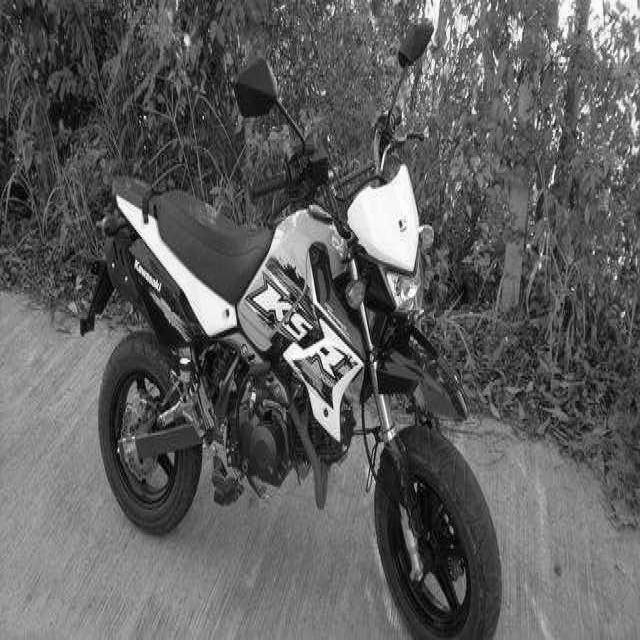Motorcycle: (81, 107, 499, 636)
